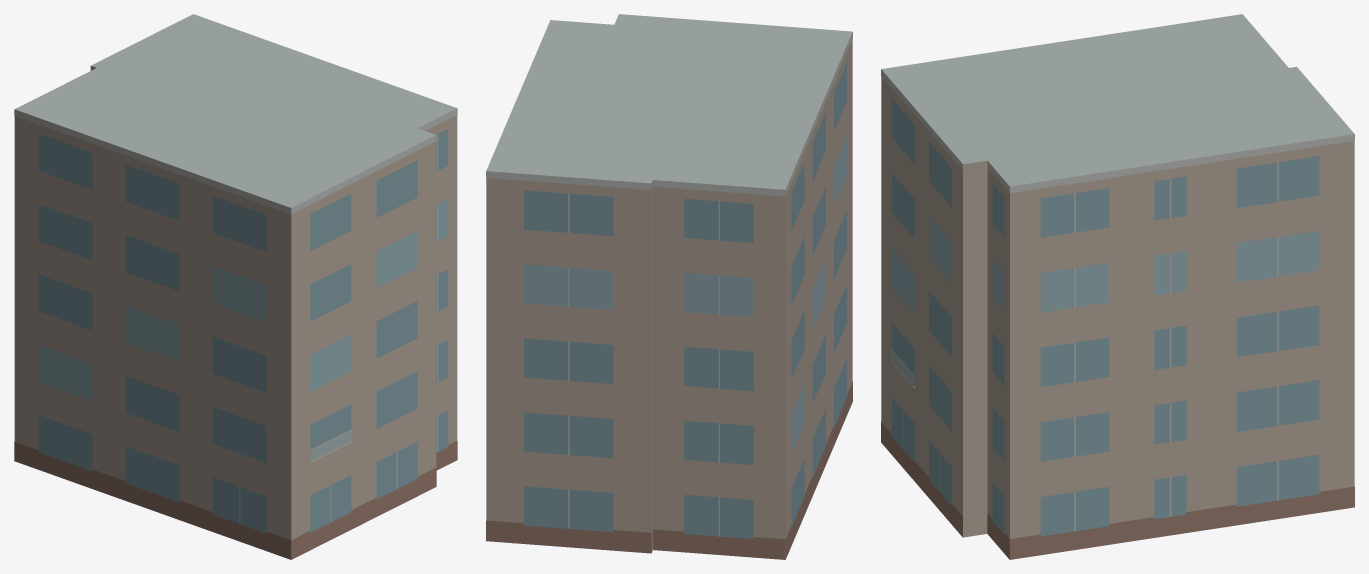
The model's file is survey-upis-32790945.glb.
3 renders of one model, left to right at view 1: azimuth 30°, elevation 25°; view 2: azimuth 150°, elevation 25°; view 3: azimuth 270°, elevation 25°, orthographic. The views are drawn at different scales.
Visible parts, largest first — view 1: survey-upis-32790945.tmp; view 2: survey-upis-32790945.tmp; view 3: survey-upis-32790945.tmp.
Part boxes in pixels (x1,y1,x2,y2): survey-upis-32790945.tmp: (14,14,457,559); survey-upis-32790945.tmp: (486,14,852,559); survey-upis-32790945.tmp: (881,14,1354,559).
Bounding box in the file's own units: 13.39 × 13.5 × 15.53.
